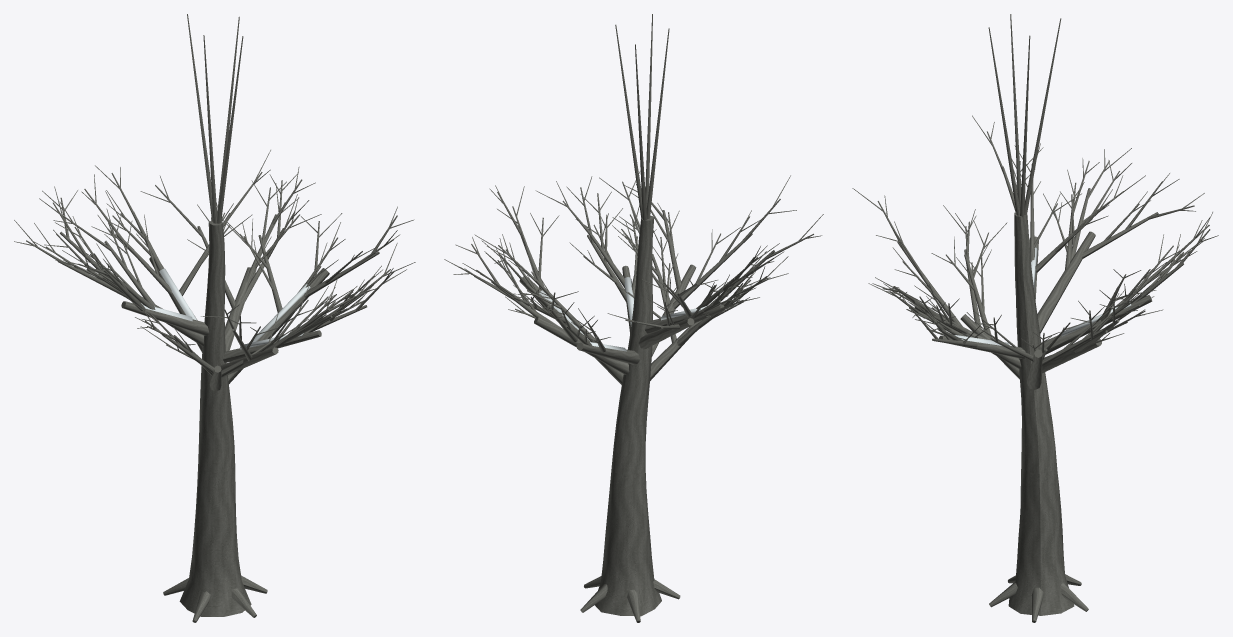
Rendered from PZ_BareOak_LightSnow.glb.
The picture shows the model from 3 angles, left to right: view 1: azimuth 30°, elevation 25°; view 2: azimuth 150°, elevation 25°; view 3: azimuth 270°, elevation 25°; orthographic projection. The views are drawn at different scales.
Parts seen in each view (by area): view 1: RENDER_BareOak_LightSnow_Trunk_Deciduous_Tree_Bark_Deciduous, RENDER_BareOak_LightSnow_TertiaryTwigs_Tree_Bark_Deciduous, RENDER_BareOak_LightSnow_SecondaryLimbs_Tree_Bark_Deciduous, RENDER_BareOak_LightSnow_TerminalTwigs_Tree_Bark_Deciduous, RENDER_BareOak_LightSnow_PrimaryLimbs_Tree_Bark_Deciduous, RENDER_BareOak_LightSnow_CrownSpires_Tree_Bark_Deciduous, RENDER_BareOak_LightSnow_LimbSnowCaps_Tree_Snow_Fresh, RENDER_BareOak_LightSnow_RootButtress_Tree_Bark_Deciduous; view 2: RENDER_BareOak_LightSnow_Trunk_Deciduous_Tree_Bark_Deciduous, RENDER_BareOak_LightSnow_TertiaryTwigs_Tree_Bark_Deciduous, RENDER_BareOak_LightSnow_SecondaryLimbs_Tree_Bark_Deciduous, RENDER_BareOak_LightSnow_PrimaryLimbs_Tree_Bark_Deciduous, RENDER_BareOak_LightSnow_TerminalTwigs_Tree_Bark_Deciduous, RENDER_BareOak_LightSnow_CrownSpires_Tree_Bark_Deciduous, RENDER_BareOak_LightSnow_RootButtress_Tree_Bark_Deciduous, RENDER_BareOak_LightSnow_LimbSnowCaps_Tree_Snow_Fresh; view 3: RENDER_BareOak_LightSnow_Trunk_Deciduous_Tree_Bark_Deciduous, RENDER_BareOak_LightSnow_TertiaryTwigs_Tree_Bark_Deciduous, RENDER_BareOak_LightSnow_SecondaryLimbs_Tree_Bark_Deciduous, RENDER_BareOak_LightSnow_PrimaryLimbs_Tree_Bark_Deciduous, RENDER_BareOak_LightSnow_TerminalTwigs_Tree_Bark_Deciduous, RENDER_BareOak_LightSnow_CrownSpires_Tree_Bark_Deciduous, RENDER_BareOak_LightSnow_RootButtress_Tree_Bark_Deciduous, RENDER_BareOak_LightSnow_LimbSnowCaps_Tree_Snow_Fresh.
Boxes of the visible parts, <box> form: RENDER_BareOak_LightSnow_Trunk_Deciduous_Tree_Bark_Deciduous: <box>179,220,251,616</box>; RENDER_BareOak_LightSnow_TertiaryTwigs_Tree_Bark_Deciduous: <box>26,172,397,359</box>; RENDER_BareOak_LightSnow_SecondaryLimbs_Tree_Bark_Deciduous: <box>57,212,379,377</box>; RENDER_BareOak_LightSnow_TerminalTwigs_Tree_Bark_Deciduous: <box>14,150,415,351</box>; RENDER_BareOak_LightSnow_PrimaryLimbs_Tree_Bark_Deciduous: <box>99,257,329,391</box>; RENDER_BareOak_LightSnow_CrownSpires_Tree_Bark_Deciduous: <box>187,14,243,223</box>; RENDER_BareOak_LightSnow_LimbSnowCaps_Tree_Snow_Fresh: <box>141,268,310,349</box>; RENDER_BareOak_LightSnow_RootButtress_Tree_Bark_Deciduous: <box>163,575,267,622</box>; RENDER_BareOak_LightSnow_Trunk_Deciduous_Tree_Bark_Deciduous: <box>595,215,661,616</box>; RENDER_BareOak_LightSnow_TertiaryTwigs_Tree_Bark_Deciduous: <box>459,181,813,343</box>; RENDER_BareOak_LightSnow_SecondaryLimbs_Tree_Bark_Deciduous: <box>491,210,774,352</box>; RENDER_BareOak_LightSnow_PrimaryLimbs_Tree_Bark_Deciduous: <box>519,264,724,384</box>; RENDER_BareOak_LightSnow_TerminalTwigs_Tree_Bark_Deciduous: <box>444,171,823,341</box>; RENDER_BareOak_LightSnow_CrownSpires_Tree_Bark_Deciduous: <box>615,14,669,220</box>; RENDER_BareOak_LightSnow_RootButtress_Tree_Bark_Deciduous: <box>580,576,680,622</box>; RENDER_BareOak_LightSnow_LimbSnowCaps_Tree_Snow_Fresh: <box>539,277,706,351</box>; RENDER_BareOak_LightSnow_Trunk_Deciduous_Tree_Bark_Deciduous: <box>1008,212,1074,615</box>; RENDER_BareOak_LightSnow_TertiaryTwigs_Tree_Bark_Deciduous: <box>877,131,1210,352</box>; RENDER_BareOak_LightSnow_SecondaryLimbs_Tree_Bark_Deciduous: <box>894,166,1183,366</box>; RENDER_BareOak_LightSnow_PrimaryLimbs_Tree_Bark_Deciduous: <box>914,231,1152,389</box>; RENDER_BareOak_LightSnow_TerminalTwigs_Tree_Bark_Deciduous: <box>852,115,1218,348</box>; RENDER_BareOak_LightSnow_CrownSpires_Tree_Bark_Deciduous: <box>988,14,1061,217</box>; RENDER_BareOak_LightSnow_RootButtress_Tree_Bark_Deciduous: <box>989,574,1088,622</box>; RENDER_BareOak_LightSnow_LimbSnowCaps_Tree_Snow_Fresh: <box>954,247,1131,345</box>.
Bounding box in the file's own units: 5.78 × 9.41 × 5.44.
Materials: 2 (2 with a texture image).
